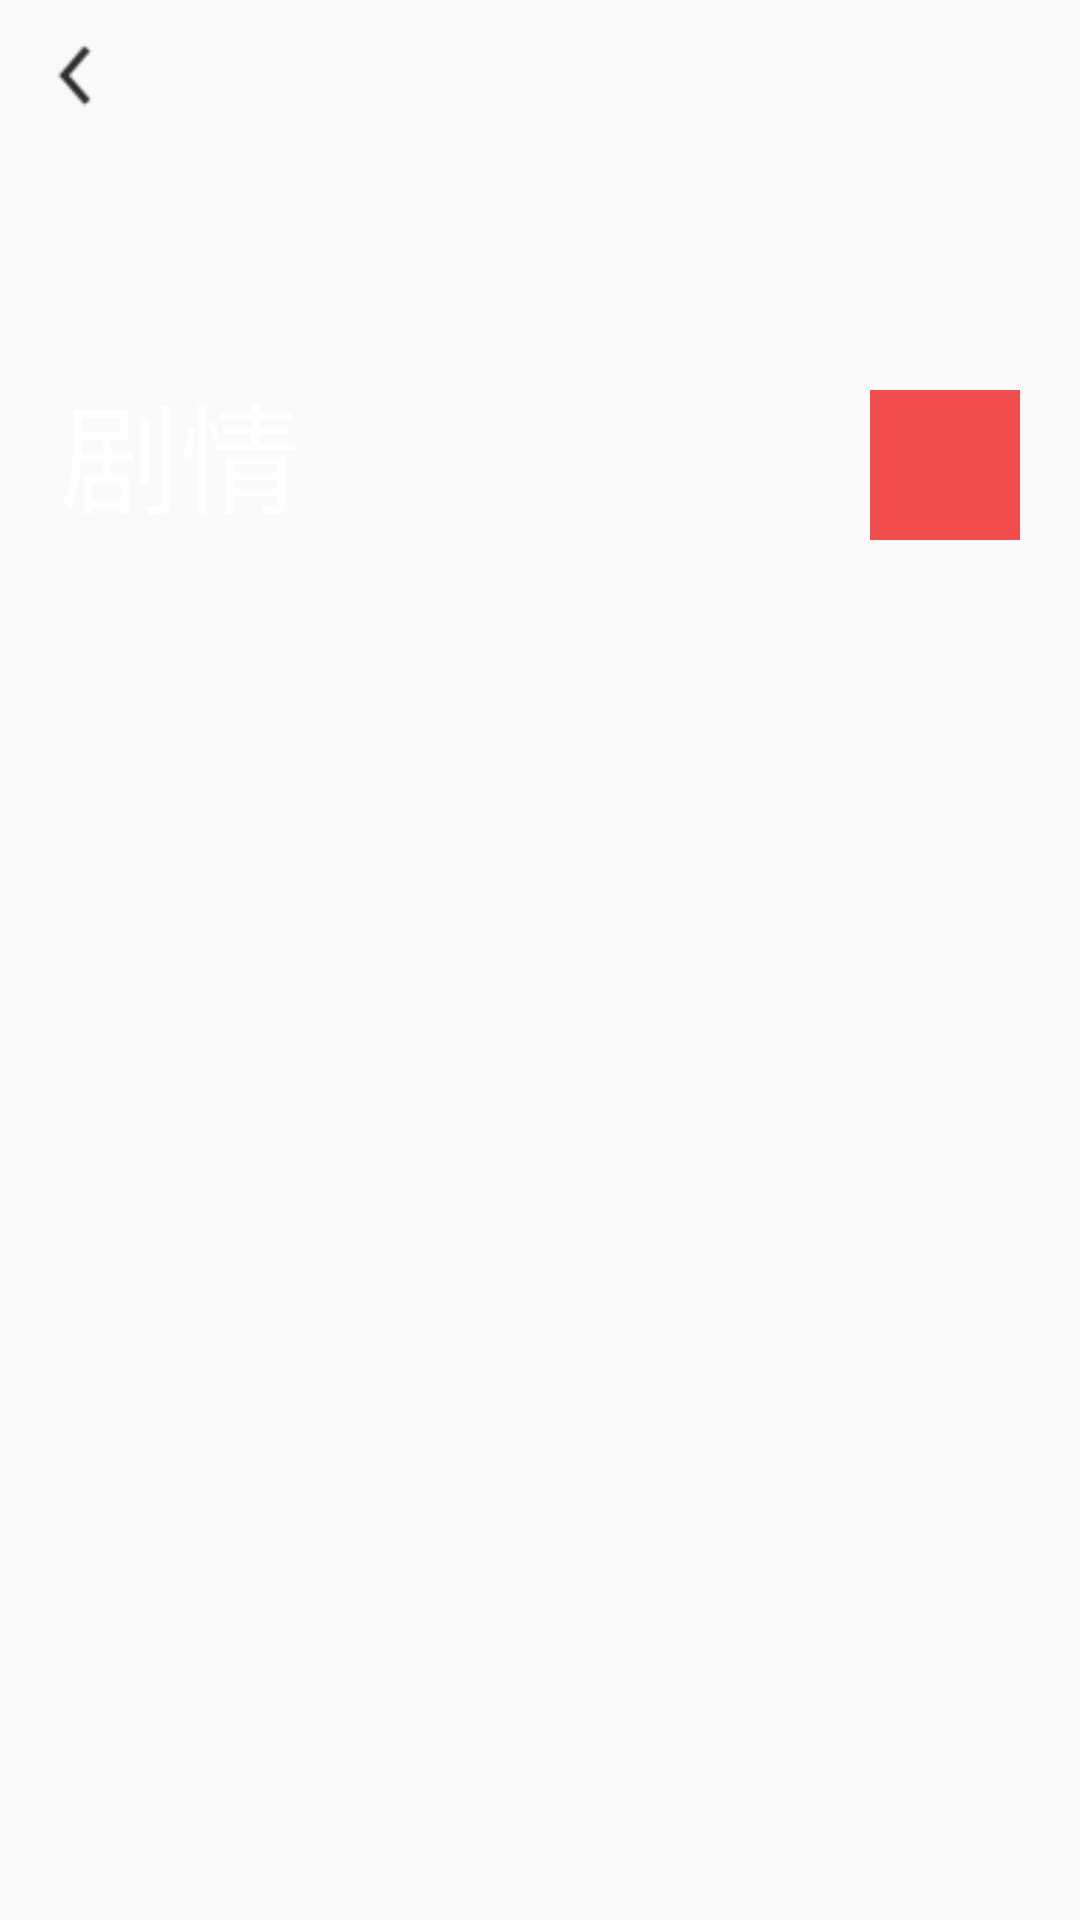

Icons on this 1080 x 1920 Android screen, each with its box as (x1, y1, x2, y2):
back: (58, 46, 91, 106)
